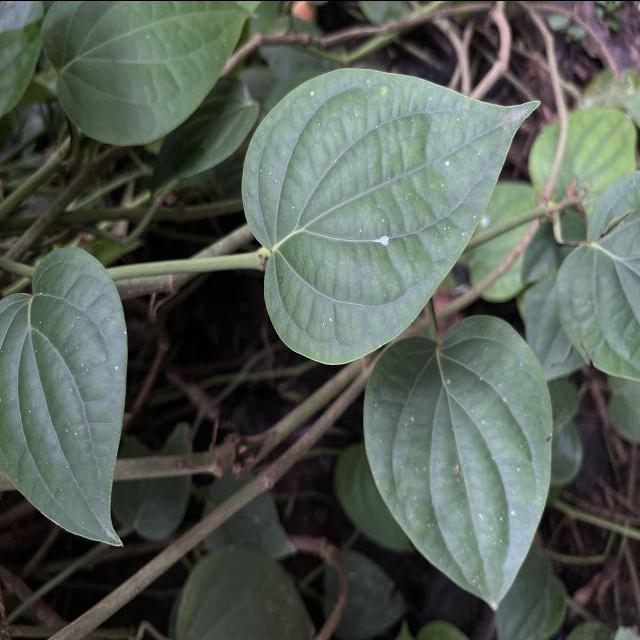Piper nigrum: (238, 64, 544, 368), (360, 311, 554, 614)
